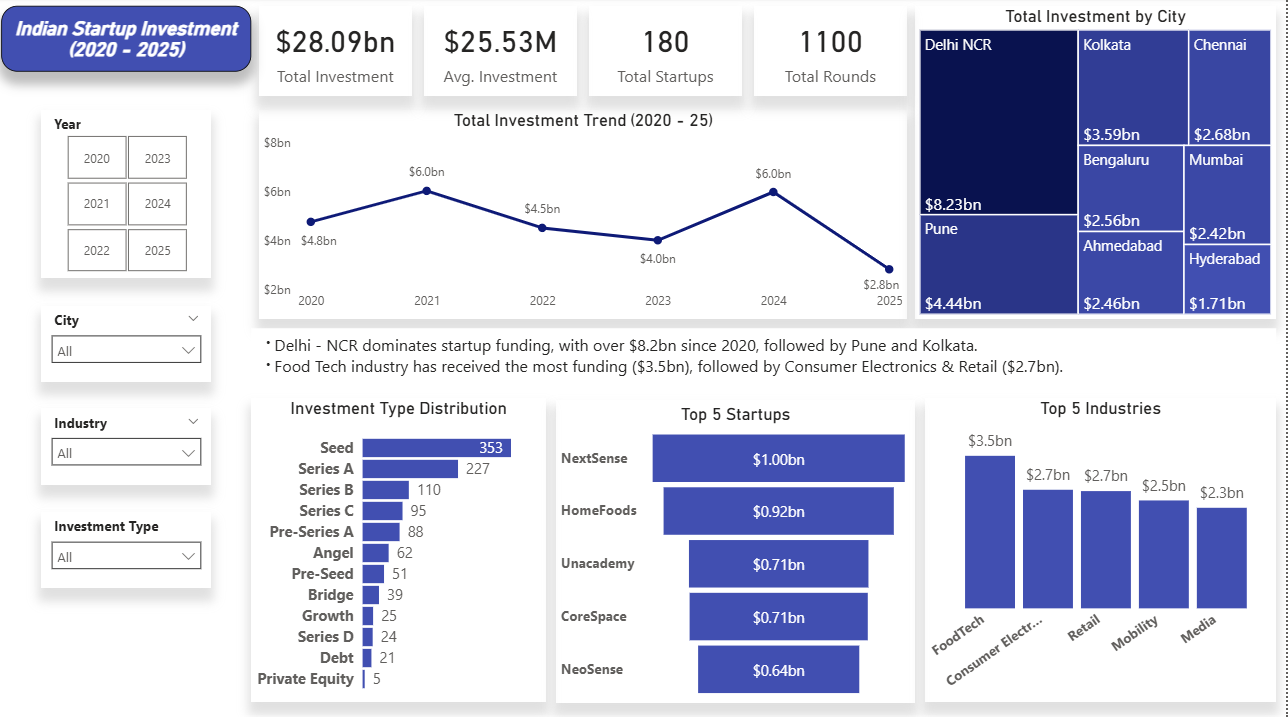

The dashboard page shown, as its layout file describes it:
{"tool":"powerbi","page":{"name":"Page 1","canvas":[1280,720],"ordinal":0},"visuals":[{"type":"card","fields":{"Values":["startup_analysis indian_startup_funding_2020_2025.Total Investment"]},"box":[257.5,8.7,153,89.6],"z":0},{"type":"card","fields":{"Values":["startup_analysis indian_startup_funding_2020_2025.Total Startups"]},"box":[585.9,8.7,153,89.6],"z":1000},{"type":"card","fields":{"Values":["startup_analysis indian_startup_funding_2020_2025.AVG. Investment"]},"box":[421.7,8.7,153,89.6],"z":2000},{"type":"card","fields":{"Values":["startup_analysis indian_startup_funding_2020_2025.Total Rounds"]},"box":[750.1,8.7,153,89.6],"z":3000},{"type":"lineChart","title":"Total Investment Trend (2020 - 25)","fields":{"Y":["startup_analysis indian_startup_funding_2020_2025.Total Investment"],"Category":["startup_analysis indian_startup_funding_2020_2025.Date.Variation.Date Hierarchy.Year"]},"box":[257.5,112,645.6,209],"z":4000},{"type":"treemap","title":"Total Investment by City","fields":{"Group":["startup_analysis indian_startup_funding_2020_2025.City"],"Values":["indian_startup_funding_2020_2025.Total Investment"]},"box":[910.6,8.7,359.5,312.2],"z":5000},{"type":"clusteredColumnChart","title":"Top 5 Industries ","fields":{"Category":["startup_analysis indian_startup_funding_2020_2025.Industry"],"Y":["startup_analysis indian_startup_funding_2020_2025.Total Investment"]},"box":[920.5,399.3,349.6,302.3],"z":6000},{"type":"funnel","title":"Top 5 Startups","fields":{"Category":["startup_analysis indian_startup_funding_2020_2025.Startup"],"Y":["startup_analysis indian_startup_funding_2020_2025.Total Investment"]},"box":[553.6,400.6,357,302],"z":7000},{"type":"clusteredBarChart","title":"Investment Type Distribution","fields":{"Category":["indian_startup_funding_2020_2025.InvestmentType"],"Y":["CountNonNull(indian_startup_funding_2020_2025.InvestmentType)"]},"box":[250,399.3,293.6,302.3],"z":8000},{"type":"slicer","fields":{"Values":["indian_startup_funding_2020_2025.Date.Variation.Date Hierarchy.Year"]},"box":[41.1,112,169.2,167.9],"z":9000},{"type":"slicer","fields":{"Values":["indian_startup_funding_2020_2025.City"]},"box":[41.1,306.8,169.2,75.9],"z":10000},{"type":"slicer","fields":{"Values":["indian_startup_funding_2020_2025.Industry"]},"box":[41.1,409.7,169.2,75.9],"z":11000},{"type":"slicer","fields":{"Values":["indian_startup_funding_2020_2025.InvestmentType"]},"box":[41.1,512.5,169.2,75.9],"z":12000},{"type":"textbox","box":[1.2,8.7,248.8,65.9],"z":13000},{"type":"textbox","box":[250,329.6,1020,53.5],"z":14000}]}

Visuals, with their boxes in screenshot pixels (x1, y1, x2, y2), scaled from the page's 1280x720 canvas onto the 1288x717 screenshot:
card - startup_analysis indian_startup_funding_2020_2025.Total Investment: pyautogui.locateOnScreen(259, 9, 413, 98)
card - startup_analysis indian_startup_funding_2020_2025.Total Startups: pyautogui.locateOnScreen(590, 9, 744, 98)
card - startup_analysis indian_startup_funding_2020_2025.AVG. Investment: pyautogui.locateOnScreen(424, 9, 578, 98)
card - startup_analysis indian_startup_funding_2020_2025.Total Rounds: pyautogui.locateOnScreen(755, 9, 909, 98)
"Total Investment Trend (2020 - 25)" lineChart: pyautogui.locateOnScreen(259, 112, 909, 320)
"Total Investment by City" treemap: pyautogui.locateOnScreen(916, 9, 1278, 320)
"Top 5 Industries " clusteredColumnChart: pyautogui.locateOnScreen(926, 398, 1278, 699)
"Top 5 Startups" funnel: pyautogui.locateOnScreen(557, 399, 916, 700)
"Investment Type Distribution" clusteredBarChart: pyautogui.locateOnScreen(252, 398, 547, 699)
slicer - indian_startup_funding_2020_2025.Date.Variation.Date Hierarchy.Year: pyautogui.locateOnScreen(41, 112, 212, 279)
slicer - indian_startup_funding_2020_2025.City: pyautogui.locateOnScreen(41, 306, 212, 381)
slicer - indian_startup_funding_2020_2025.Industry: pyautogui.locateOnScreen(41, 408, 212, 484)
slicer - indian_startup_funding_2020_2025.InvestmentType: pyautogui.locateOnScreen(41, 510, 212, 586)
textbox: pyautogui.locateOnScreen(1, 9, 252, 74)
textbox: pyautogui.locateOnScreen(252, 328, 1278, 382)
